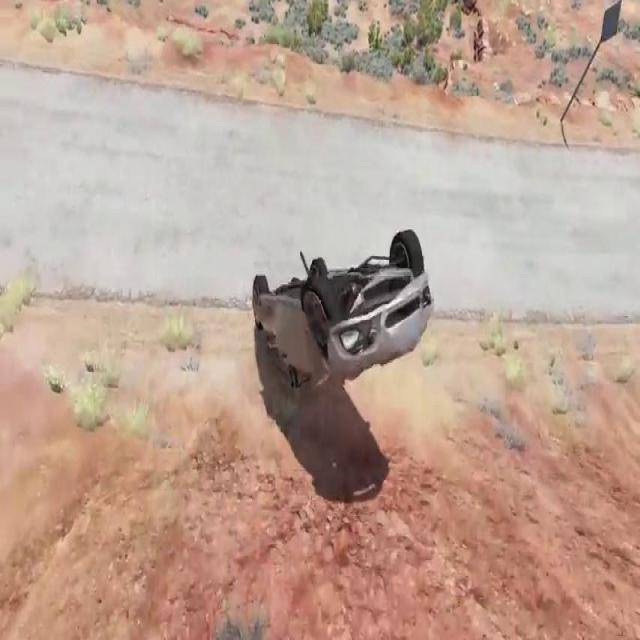accident: (249, 218, 436, 390)
